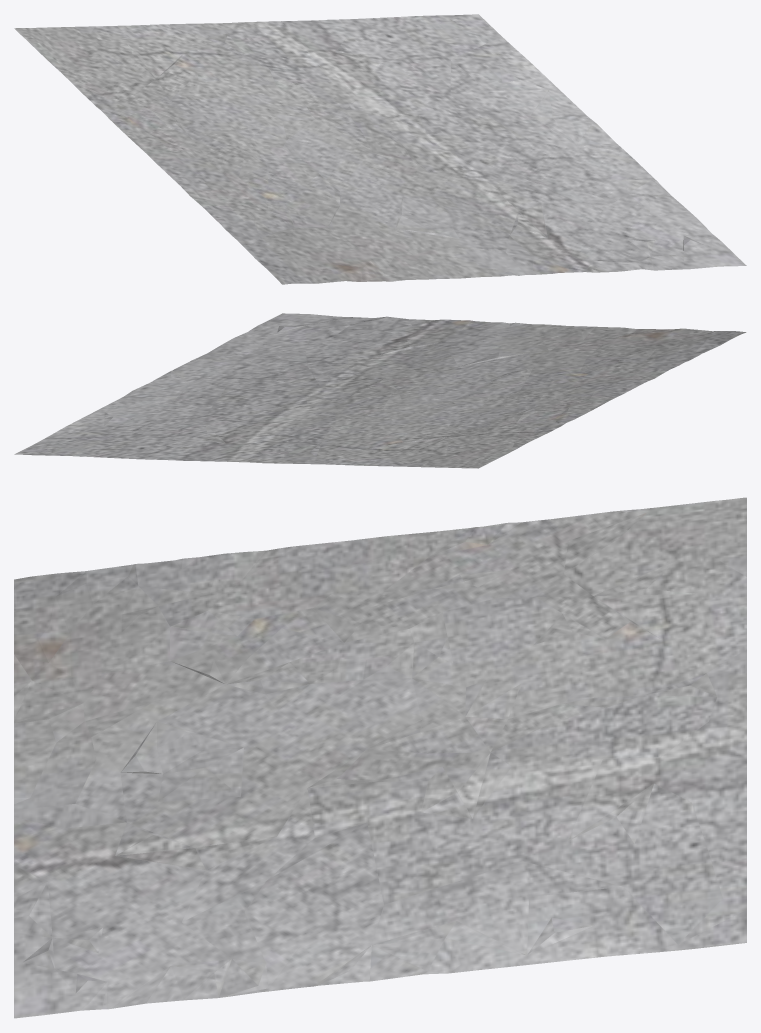
3 views of the same model, one above another, from view 1: azimuth 30°, elevation 25°; view 2: azimuth 150°, elevation 25°; view 3: azimuth 270°, elevation 25° (orthographic). The views are drawn at different scales.
Size of the model in its own units: 3.35 by 1.07 by 3.35.
3 materials, 3 textured.
